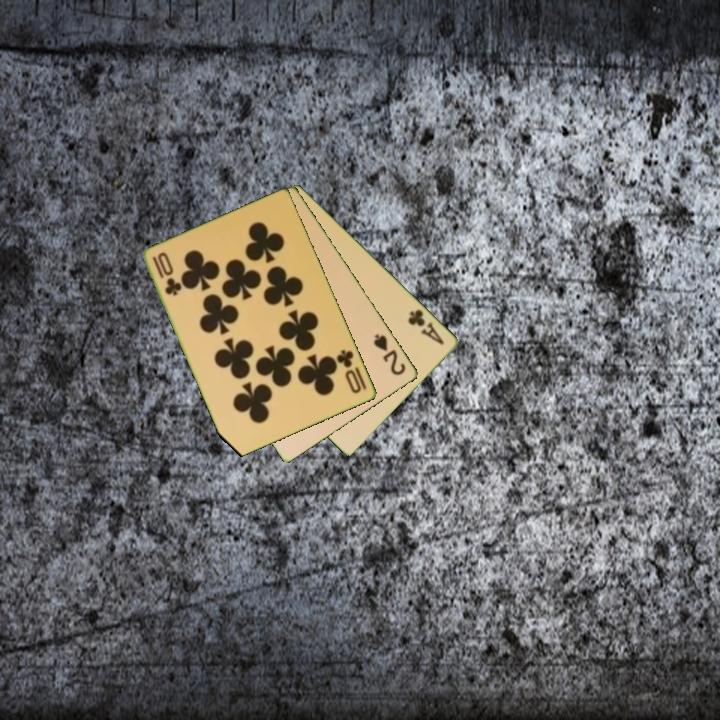10c: (333, 346, 370, 397), (149, 249, 184, 299)
2s: (370, 330, 409, 378)
Ac: (405, 305, 447, 348)
